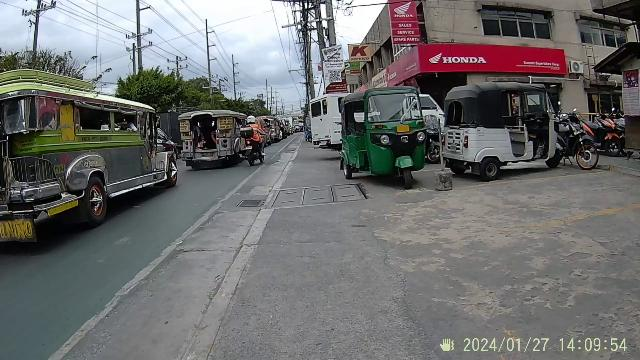car: (178, 106, 266, 172)
utility_post: (125, 1, 153, 75), (201, 15, 219, 103)
